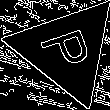P_E: (35, 23, 98, 76)
